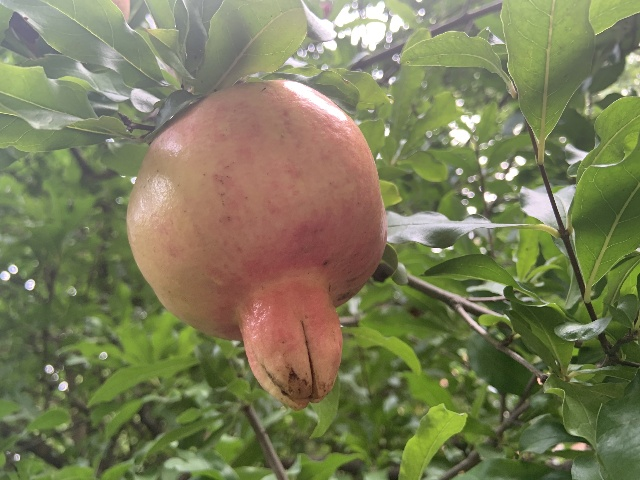ripe: (125, 80, 387, 410)
